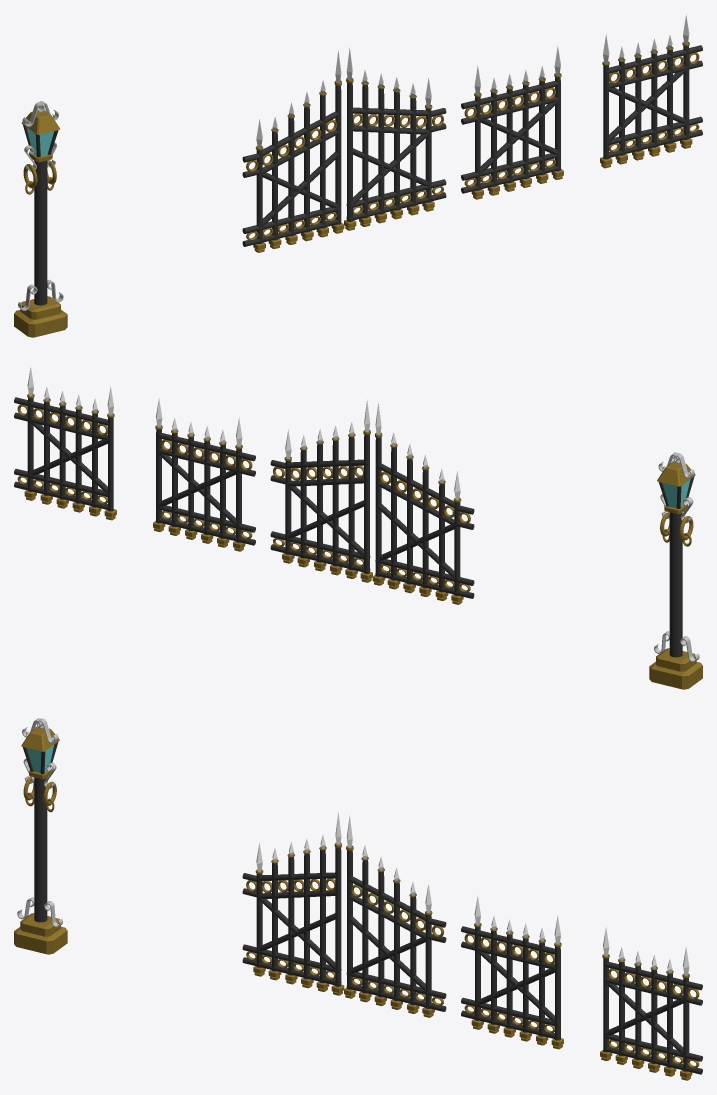
File: fence.fbx
The picture shows the model from 3 angles, top to bottom: view 1: azimuth 30°, elevation 25°; view 2: azimuth 150°, elevation 25°; view 3: azimuth 330°, elevation 25°; orthographic projection.
Parts seen in each view (by area): view 1: Cylinder.049, Cube.055, Cylinder.011, Cylinder.009, Cylinder.008, Cylinder.007, Cylinder.012, Cylinder.031, Cylinder.015, Cylinder.004, Cylinder.003, Cube.058 (+14 smaller); view 2: Cylinder.049, Cube.055, Cylinder.011, Cylinder.009, Cylinder.008, Cylinder.007, Cylinder.012, Cylinder.031, Cylinder.015, Cylinder.004, Cylinder.003, Cube.058 (+13 smaller); view 3: Cylinder.049, Cube.055, Cylinder.011, Cylinder.008, Cylinder.009, Cylinder.007, Cylinder.012, Cylinder.031, Cylinder.015, Cylinder.003, Cylinder.004, Cube.058 (+2 smaller).
Boxes of the visible parts, x1,y1,x2,y2 form: Cylinder.049: (34, 160, 47, 305); Cube.055: (14, 310, 67, 337); Cylinder.011: (335, 85, 341, 224); Cylinder.009: (347, 83, 352, 221); Cylinder.008: (362, 83, 368, 218); Cylinder.007: (378, 86, 384, 214); Cylinder.012: (320, 93, 325, 228); Cylinder.031: (288, 115, 294, 236); Cylinder.015: (304, 104, 309, 232); Cylinder.004: (410, 96, 416, 206); Cylinder.003: (394, 89, 399, 210); Cube.058: (20, 296, 60, 319); Cylinder.049: (669, 512, 682, 657); Cube.055: (649, 661, 702, 689); Cylinder.011: (375, 437, 381, 576); Cylinder.009: (364, 435, 369, 573); Cylinder.008: (348, 435, 354, 570); Cylinder.007: (332, 438, 338, 566); Cylinder.012: (391, 445, 396, 580); Cylinder.031: (422, 467, 428, 588); Cylinder.015: (407, 458, 412, 584); Cylinder.004: (300, 448, 306, 558); Cylinder.003: (317, 441, 322, 562); Cube.058: (656, 648, 696, 671); Cylinder.049: (34, 777, 47, 922); Cube.055: (14, 926, 67, 954); Cylinder.011: (335, 847, 341, 986); Cylinder.008: (362, 858, 368, 993); Cylinder.009: (347, 850, 352, 989); Cylinder.007: (378, 869, 384, 997); Cylinder.012: (320, 848, 325, 982); Cylinder.031: (288, 854, 294, 975); Cylinder.015: (304, 851, 309, 979); Cylinder.003: (394, 880, 399, 1001); Cylinder.004: (410, 894, 416, 1005); Cube.058: (20, 913, 60, 936).
Bounding box in the file's own units: 3940 × 1250 × 187.
